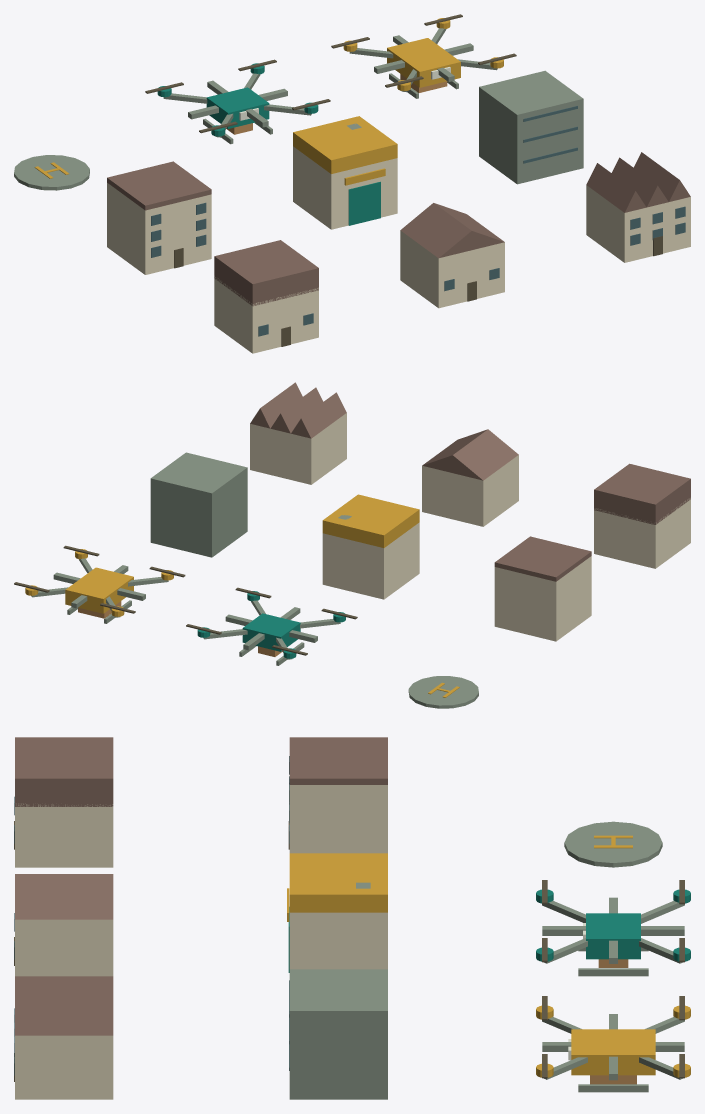
The model's file is slop-hill.glb.
3 renders of one model, top to bottom at view 1: azimuth 30°, elevation 25°; view 2: azimuth 150°, elevation 25°; view 3: azimuth 270°, elevation 25°, orthographic. The views are drawn at different scales.
Parts seen in each view (by area): view 1: walls.005, walls.001, walls, flat_roof, walls.003, walls.002, walls.004, flat_roof.002, roof, flat_roof.001, body.001, pad (+6 smaller); view 2: walls.005, walls.004, walls.003, walls.001, walls.002, walls, flat_roof, flat_roof.002, roof, flat_roof.001, body.001, pad (+5 smaller); view 3: walls.005, flat_roof, walls.002, walls, flat_roof.002, walls.001, walls.004, walls.003, flat_roof.001, roof, body.001, pad (+9 smaller).
Part boxes in pixels (x1,y1,x2,y2): walls.005: [479, 70, 583, 184]; walls.001: [400, 230, 504, 308]; walls: [214, 276, 318, 353]; flat_roof: [214, 240, 318, 306]; walls.003: [107, 197, 211, 274]; walls.002: [586, 185, 690, 262]; walls.004: [293, 146, 397, 229]; flat_roof.002: [293, 116, 397, 173]; roof: [400, 203, 504, 258]; flat_roof.001: [107, 161, 211, 210]; body.001: [387, 38, 460, 87]; pad: [14, 155, 89, 190]; walls.005: [150, 452, 247, 557]; walls.004: [322, 522, 419, 599]; walls.003: [494, 569, 591, 641]; walls.001: [422, 455, 518, 526]; walls.002: [250, 413, 346, 484]; walls: [594, 498, 690, 568]; flat_roof: [594, 463, 690, 524]; flat_roof.002: [322, 494, 419, 547]; roof: [422, 429, 518, 480]; flat_roof.001: [494, 536, 591, 581]; body.001: [65, 567, 133, 613]; pad: [408, 676, 478, 708]; walls.005: [289, 969, 387, 1099]; flat_roof: [15, 737, 113, 806]; walls.002: [15, 1035, 113, 1099]; walls: [15, 803, 113, 867]; flat_roof.002: [289, 853, 387, 912]; walls.001: [15, 919, 113, 976]; walls.004: [289, 912, 387, 969]; walls.003: [289, 803, 387, 853]; flat_roof.001: [289, 737, 387, 784]; roof: [15, 874, 113, 919]; body.001: [571, 1029, 655, 1075]; pad: [564, 821, 662, 867].
Size of the model in its own units: 7.07 by 1 by 6.9.
